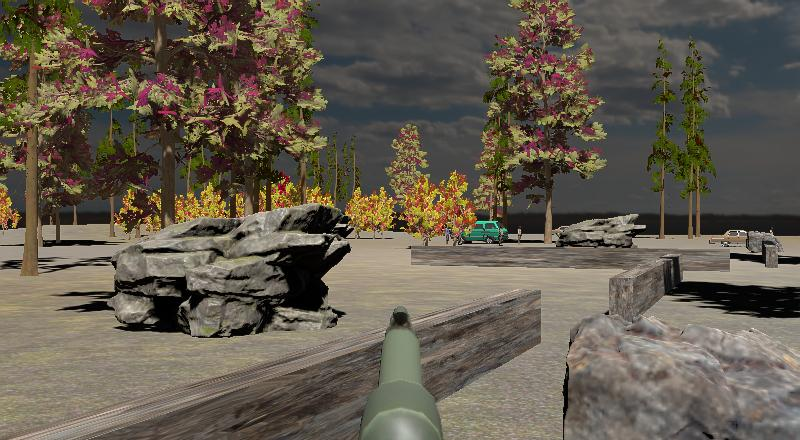car: (706, 227, 765, 249), (464, 220, 510, 245)
